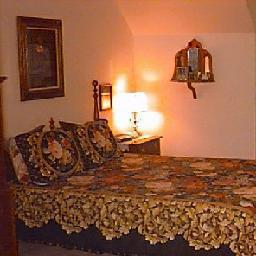Cama: (28, 134, 252, 251)
